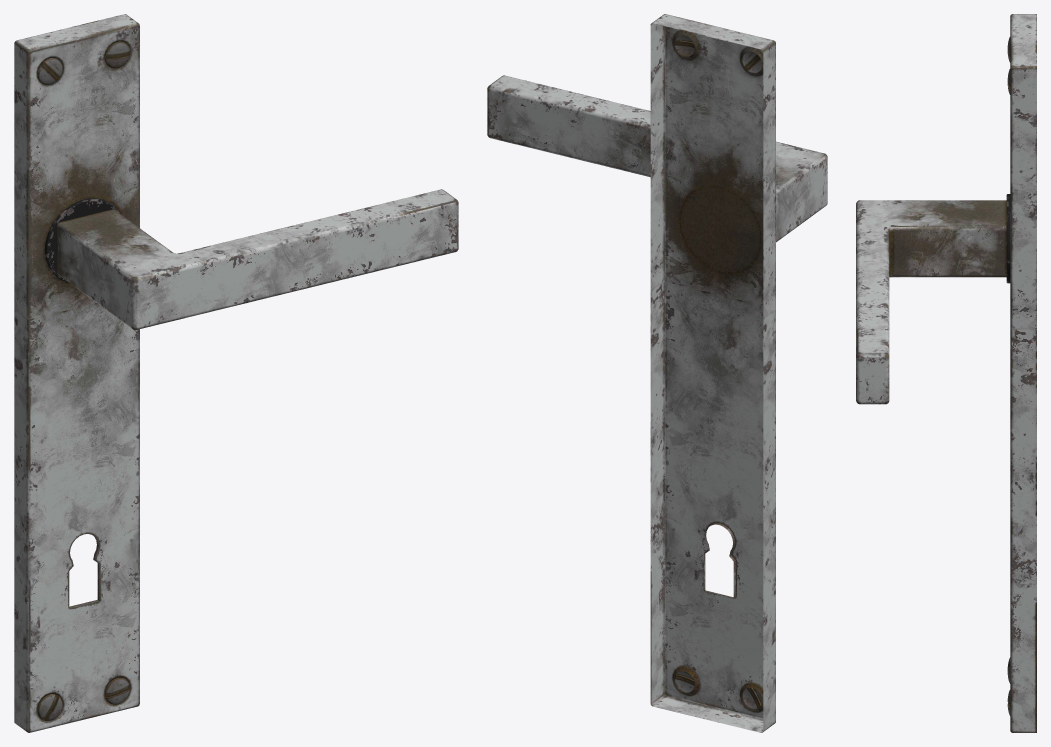
3 views of the same model, side by side, from view 1: azimuth 30°, elevation 25°; view 2: azimuth 150°, elevation 25°; view 3: azimuth 270°, elevation 25° (orthographic). The views are drawn at different scales.
Parts seen in each view (by area): view 1: panel, handle, base; view 2: panel, handle; view 3: panel, handle, base.
Part boxes in pixels (<box>): panel: <box>14,14,139,732</box>; handle: <box>56,189,458,329</box>; base: <box>44,198,120,283</box>; panel: <box>650,14,775,732</box>; handle: <box>487,75,827,242</box>; panel: <box>1010,14,1036,732</box>; handle: <box>856,200,1006,404</box>; base: <box>1006,194,1010,283</box>.
Bounding box in the file's own units: 11.9 × 22 × 5.41.
Materials: 1 (1 with a texture image).
